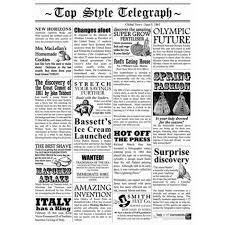Printing industry: (19, 5, 212, 225)
